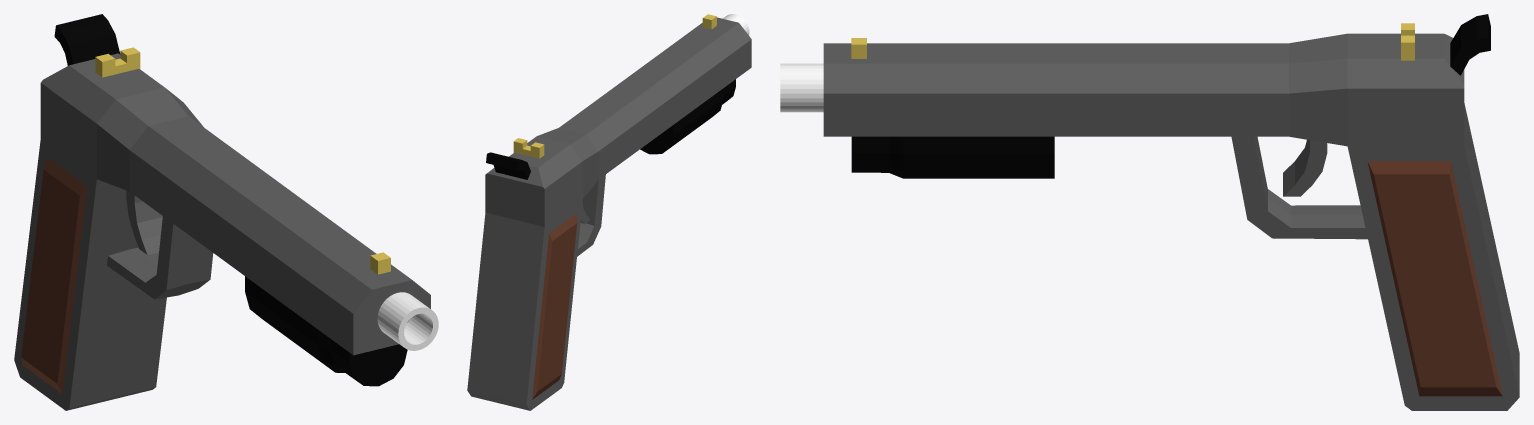
File: Pistol.fbx
3 views of the same model, side by side, from view 1: azimuth 30°, elevation 25°; view 2: azimuth 150°, elevation 25°; view 3: azimuth 270°, elevation 25° (orthographic). The views are drawn at different scales.
Parts seen in each view (by area): view 1: Gun, UnderBarrel, Cube, Barrel, Bolt, IronSights; view 2: Gun, UnderBarrel, Cube, Bolt, IronSights; view 3: Gun, UnderBarrel, Cube, Barrel, Bolt, IronSights.
Part boxes in pixels (x1=…): Gun: x1=14, y1=53, x2=430, y2=410; UnderBarrel: x1=245, y1=276, x2=407, y2=386; Cube: x1=107, y1=216, x2=213, y2=299; Barrel: x1=377, y1=292, x2=438, y2=350; Bolt: x1=54, y1=14, x2=120, y2=65; IronSights: x1=95, y1=47, x2=390, y2=274; Gun: x1=467, y1=17, x2=751, y2=410; UnderBarrel: x1=640, y1=79, x2=735, y2=154; Cube: x1=577, y1=174, x2=605, y2=256; Bolt: x1=486, y1=152, x2=530, y2=179; IronSights: x1=513, y1=14, x2=716, y2=158; Gun: x1=823, y1=33, x2=1519, y2=410; UnderBarrel: x1=851, y1=136, x2=1054, y2=178; Cube: x1=1231, y1=136, x2=1367, y2=239; Barrel: x1=780, y1=63, x2=823, y2=112; Bolt: x1=1450, y1=14, x2=1490, y2=75; IronSights: x1=851, y1=23, x2=1414, y2=60.
Bounding box in the file's own units: 103 × 364 × 667.
